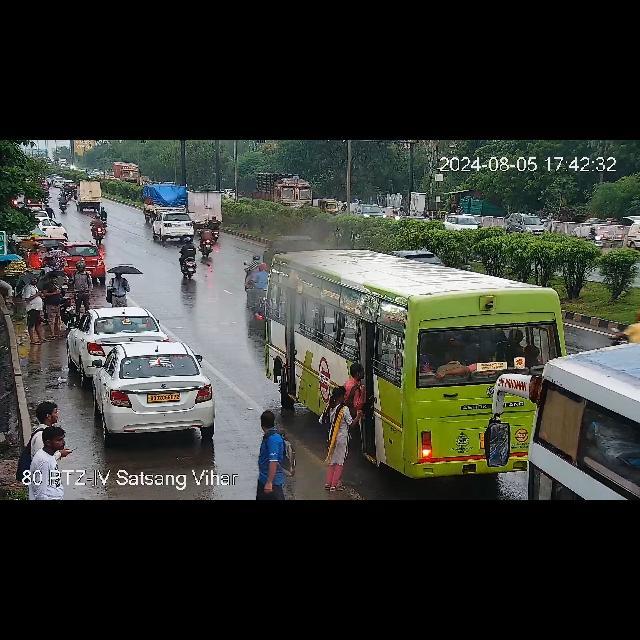bus: (277, 265, 575, 481), (489, 336, 640, 500)
car: (78, 342, 218, 438), (71, 308, 165, 364), (154, 212, 204, 240), (572, 216, 620, 244), (69, 241, 109, 273), (506, 213, 548, 234), (348, 204, 394, 222), (441, 213, 482, 231), (392, 250, 442, 264), (42, 216, 70, 240), (314, 197, 344, 215), (53, 175, 65, 188)
motorcycle: (244, 254, 268, 322), (177, 242, 205, 280), (198, 226, 222, 256), (87, 215, 107, 241), (58, 192, 70, 214), (46, 176, 52, 188)
person: (15, 402, 73, 501), (250, 412, 292, 492), (22, 276, 50, 336), (68, 264, 96, 312), (43, 274, 65, 334), (103, 268, 131, 306)
truck: (142, 182, 208, 214), (254, 175, 314, 208), (68, 178, 108, 212), (111, 162, 142, 182)
